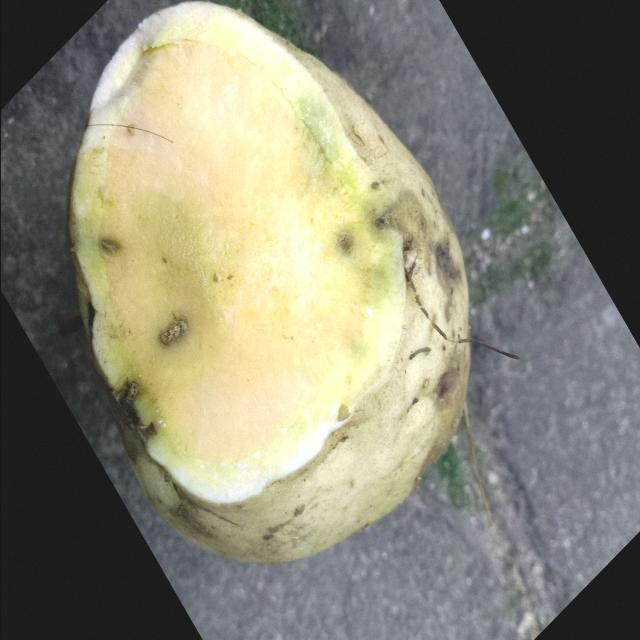Sick Sweet Potato_Tuber Rot: (68, 3, 405, 503)
